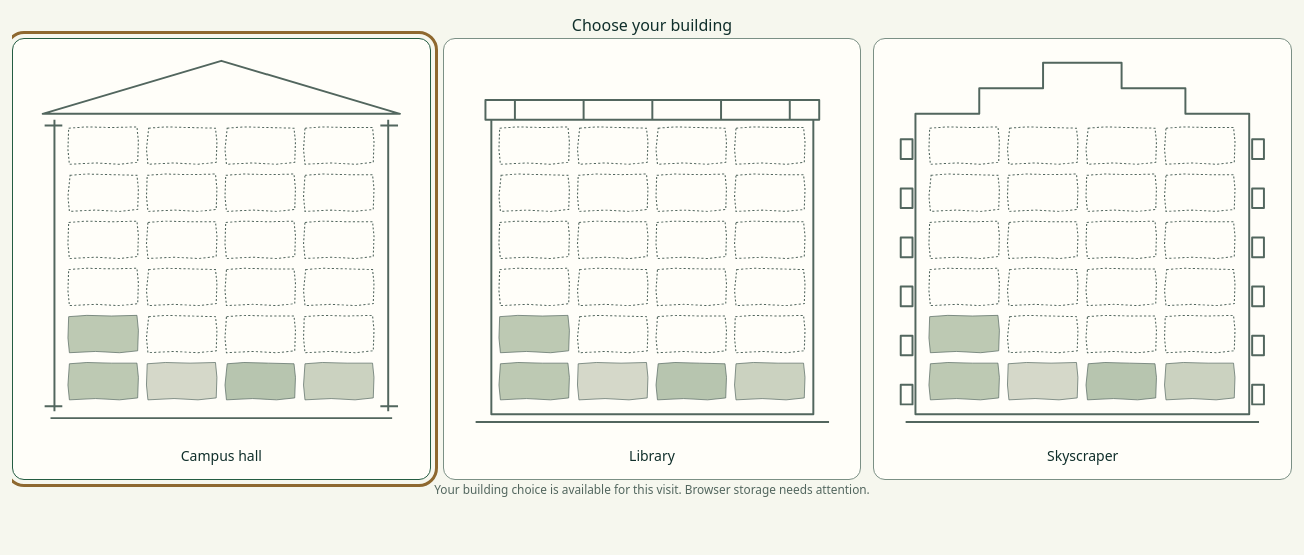
Test: falls back to the default picker without crashing on corrupt storage
Click the button "Campus hall" at [221, 259], box x1=12 y1=38 x2=431 y2=480
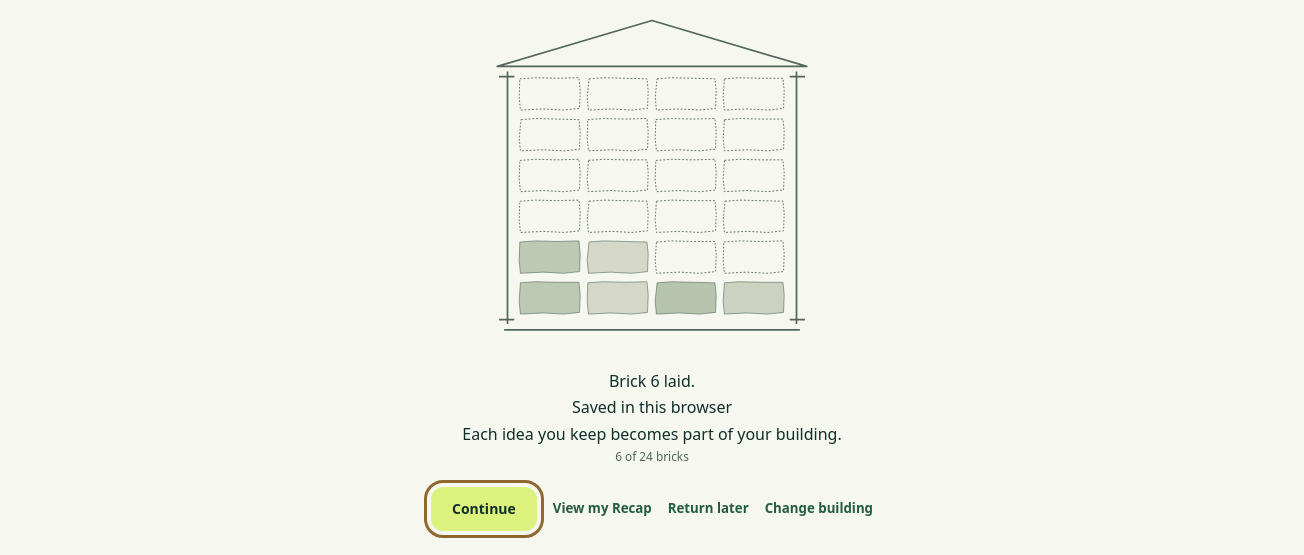
Expected: the text "6 of 24 bricks" is shown, x1=615 y1=448 x2=689 y2=464
